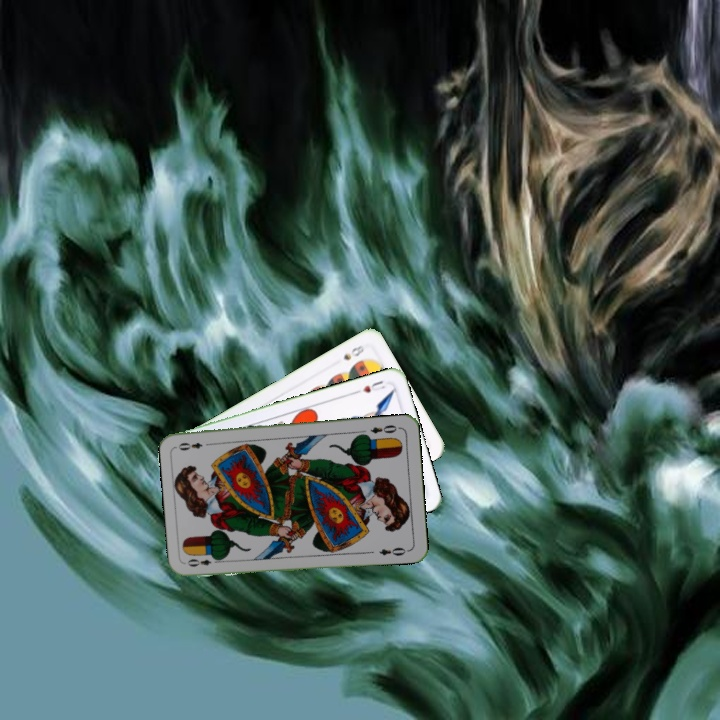EO: (183, 553, 223, 569), (366, 421, 402, 436)
HU: (351, 376, 388, 396)
S8: (339, 341, 367, 363)
